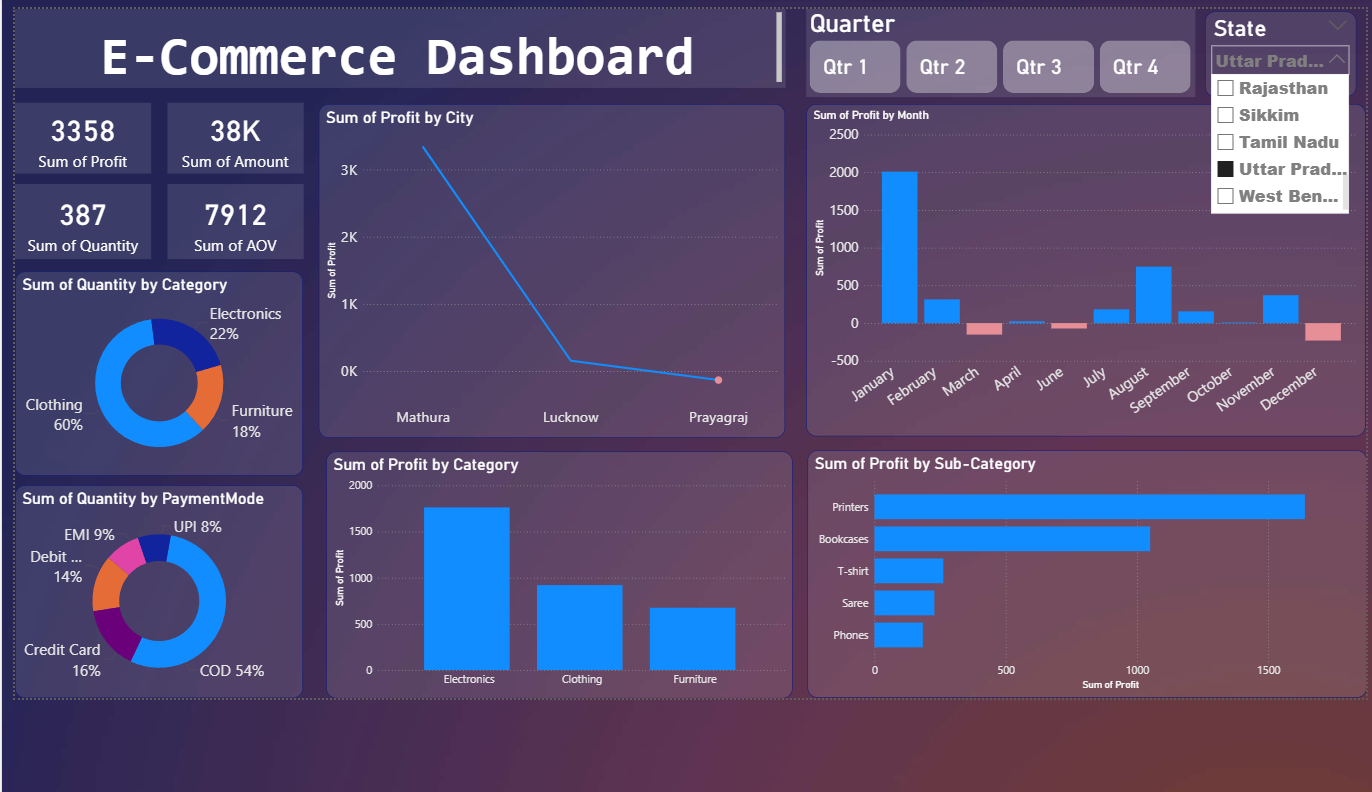

What the dashboard file says about the page in this screenshot:
{"tool":"powerbi","page":{"name":"Page 1","canvas":[2000,1020],"ordinal":0},"visuals":[{"type":"columnChart","fields":{"Category":["Details.Category"],"Y":["Sum(Details.Profit)"]},"box":[461,654.8,690.4,365.3],"z":0},{"type":"card","fields":{"Values":["Sum(Details.Profit)"]},"box":[0,139.4,201.5,105.1],"z":1000},{"type":"card","fields":{"Values":["Sum(Details.Amount)"]},"box":[225.1,139.4,201.5,105.1],"z":2000},{"type":"donutChart","fields":{"Y":["Sum(Details.Quantity)"],"Category":["Details.Category"]},"box":[0,388.1,426.7,302.3],"z":3000},{"type":"donutChart","fields":{"Y":["Sum(Details.Quantity)"],"Category":["Details.PaymentMode"]},"box":[0,705.4,426.7,315.2],"z":4000},{"type":"barChart","fields":{"Y":["Sum(Details.Profit)"],"Category":["Details.Sub-Category"]},"box":[1172.8,653.9,827.6,366.6],"z":5000},{"type":"columnChart","fields":{"Y":["Sum(Details.Profit)"],"Category":["Orders.Order Date.Variation.Date Hierarchy.Month"]},"box":[1172,140,828,492],"z":6000},{"type":"card","fields":{"Values":["Sum(Details.Quantity)"]},"box":[0,259.4,201.5,111.5],"z":7000},{"type":"card","fields":{"Values":["Sum(Details.AOV)"]},"box":[225.1,259.4,201.5,111.5],"z":8000},{"type":"advancedSlicerVisual","fields":{"Values":["Orders.Order Date.Variation.Date Hierarchy.Quarter"]},"box":[1172,0,576,130],"z":9000},{"type":"slicer","fields":{"Values":["Orders.State"]},"box":[1761.2,3.7,224.3,126.1],"z":10000},{"type":"lineChart","fields":{"Category":["Orders.City"],"Y":["Sum(Details.Profit)"]},"box":[450,140,690,494],"z":11000},{"type":"textbox","box":[0,0,1140.5,116.9],"z":12000}]}

Visuals, with their boxes in screenshot pixels (x1, y1, x2, y2):
columnChart - Details.Category x Sum(Details.Profit): {"left": 323, "top": 431, "right": 808, "bottom": 687}
card - Sum(Details.Profit): {"left": 0, "top": 69, "right": 141, "bottom": 143}
card - Sum(Details.Amount): {"left": 158, "top": 69, "right": 299, "bottom": 143}
donutChart - Sum(Details.Quantity) x Details.Category: {"left": 0, "top": 244, "right": 299, "bottom": 456}
donutChart - Sum(Details.Quantity) x Details.PaymentMode: {"left": 0, "top": 466, "right": 299, "bottom": 687}
barChart - Sum(Details.Profit) x Details.Sub-Category: {"left": 823, "top": 430, "right": 1371, "bottom": 687}
columnChart - Sum(Details.Profit) x Orders.Order Date.Variation.Date Hierarchy.Month: {"left": 822, "top": 70, "right": 1371, "bottom": 415}
card - Sum(Details.Quantity): {"left": 0, "top": 153, "right": 141, "bottom": 232}
card - Sum(Details.AOV): {"left": 158, "top": 153, "right": 299, "bottom": 232}
advancedSlicerVisual - Orders.Order Date.Variation.Date Hierarchy.Quarter: {"left": 822, "top": 0, "right": 1226, "bottom": 63}
slicer - Orders.State: {"left": 1235, "top": 0, "right": 1371, "bottom": 62}
lineChart - Orders.City x Sum(Details.Profit): {"left": 316, "top": 70, "right": 800, "bottom": 416}
textbox: {"left": 0, "top": 0, "right": 800, "bottom": 53}
